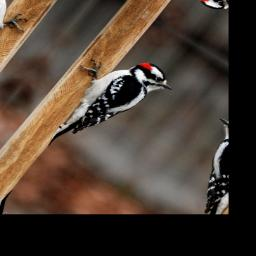Woodpecker: (26, 35, 180, 177)
